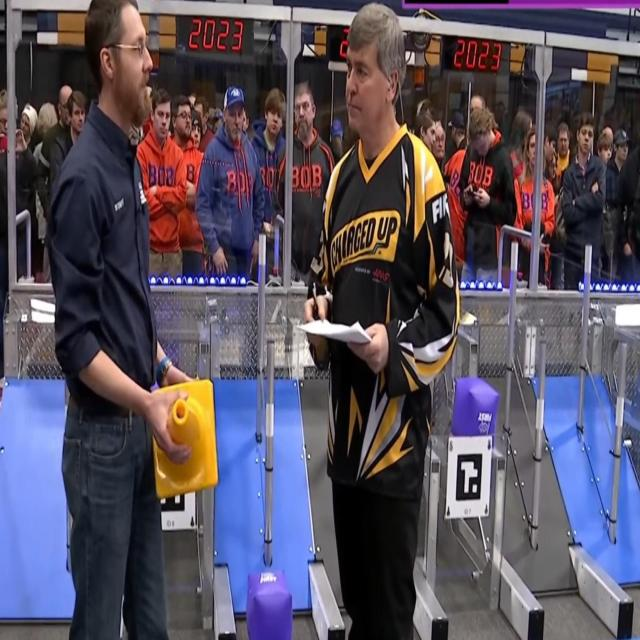frc_cone: (153, 378, 218, 496)
frc_cube: (246, 569, 293, 640), (451, 375, 498, 443)
